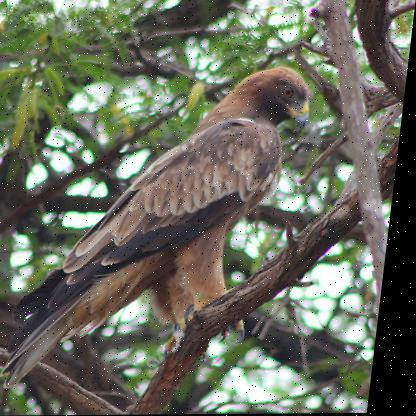Burung: (11, 74, 316, 386)
